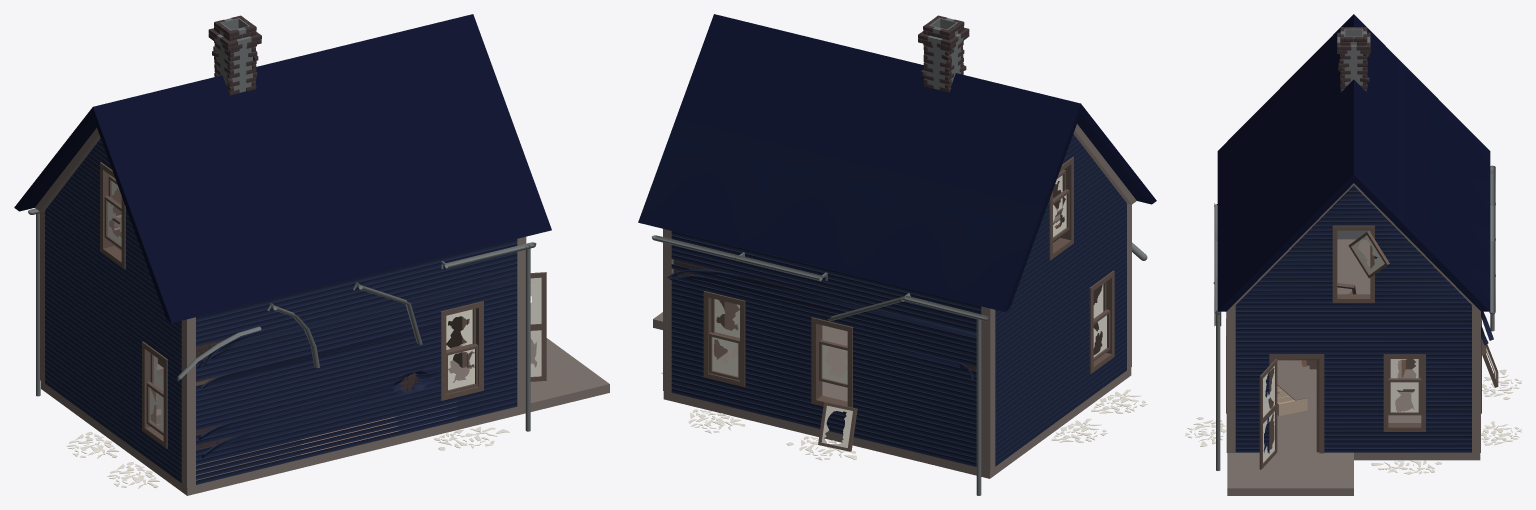
The model's file is HHM (1).fbx.
The picture shows the model from 3 angles, left to right: view 1: azimuth 30°, elevation 25°; view 2: azimuth 150°, elevation 25°; view 3: azimuth 270°, elevation 25°; orthographic projection. The views are drawn at different scales.
Parts seen in each view (by area): view 1: HouseMain, Misc, Drain, ChimneyBricks, Bricks; view 2: HouseMain, Misc, Drain, ChimneyBricks; view 3: HouseMain, Misc, Drain, ChimneyBricks, Closet.
Part boxes in pixels (box(x1,y1,x2,y2)): HouseMain: box(14, 14, 609, 495); Misc: box(67, 162, 546, 488); Drain: box(28, 208, 536, 431); ChimneyBricks: box(208, 15, 261, 95); Bricks: box(196, 335, 420, 450); HouseMain: box(638, 14, 1156, 478); Misc: box(661, 157, 1147, 460); Drain: box(652, 235, 1147, 495); ChimneyBricks: box(918, 15, 969, 92); HouseMain: box(1213, 14, 1493, 495); Misc: box(1185, 225, 1521, 474); Drain: box(1214, 165, 1495, 470); ChimneyBricks: box(1337, 27, 1370, 92); Closet: box(1277, 381, 1307, 416).
Size of the model in its own units: 1103 by 907 by 798.
